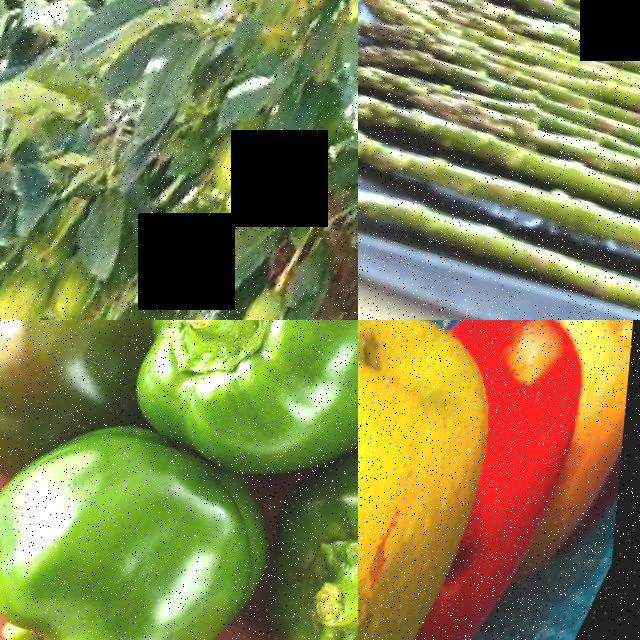apple: (389, 331, 632, 640), (358, 320, 566, 640), (513, 320, 637, 617), (358, 320, 432, 640), (583, 325, 637, 564)
asparagus: (358, 32, 640, 302), (358, 128, 640, 320)
bell pepper: (0, 393, 304, 640), (126, 320, 358, 491)
